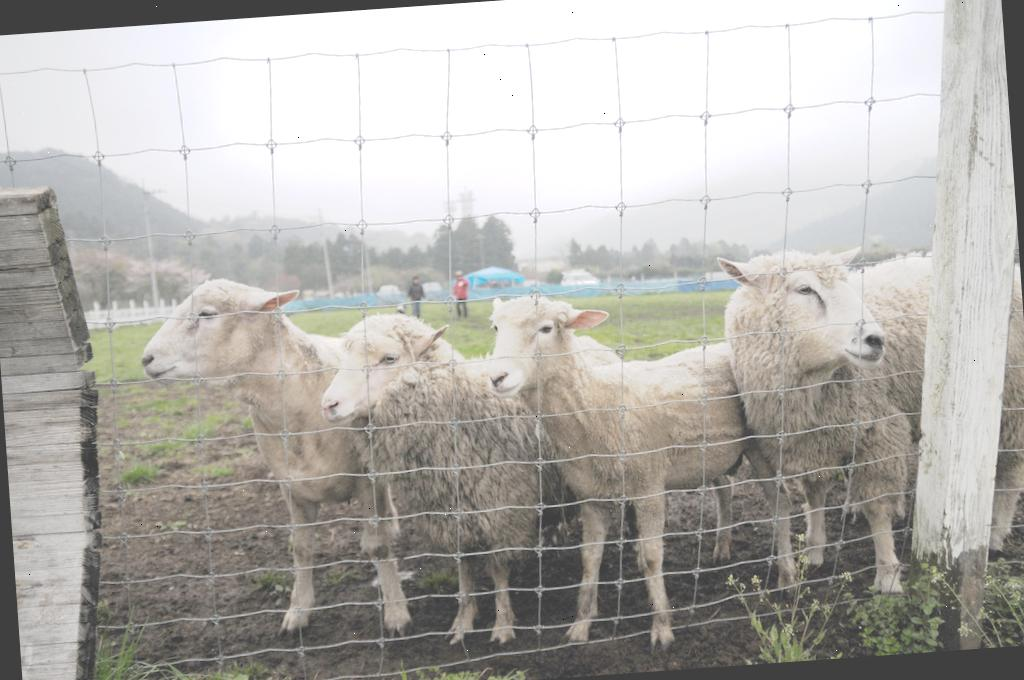Sheep: (310, 294, 648, 662), (482, 276, 798, 660), (717, 234, 1024, 607), (132, 264, 406, 640)
